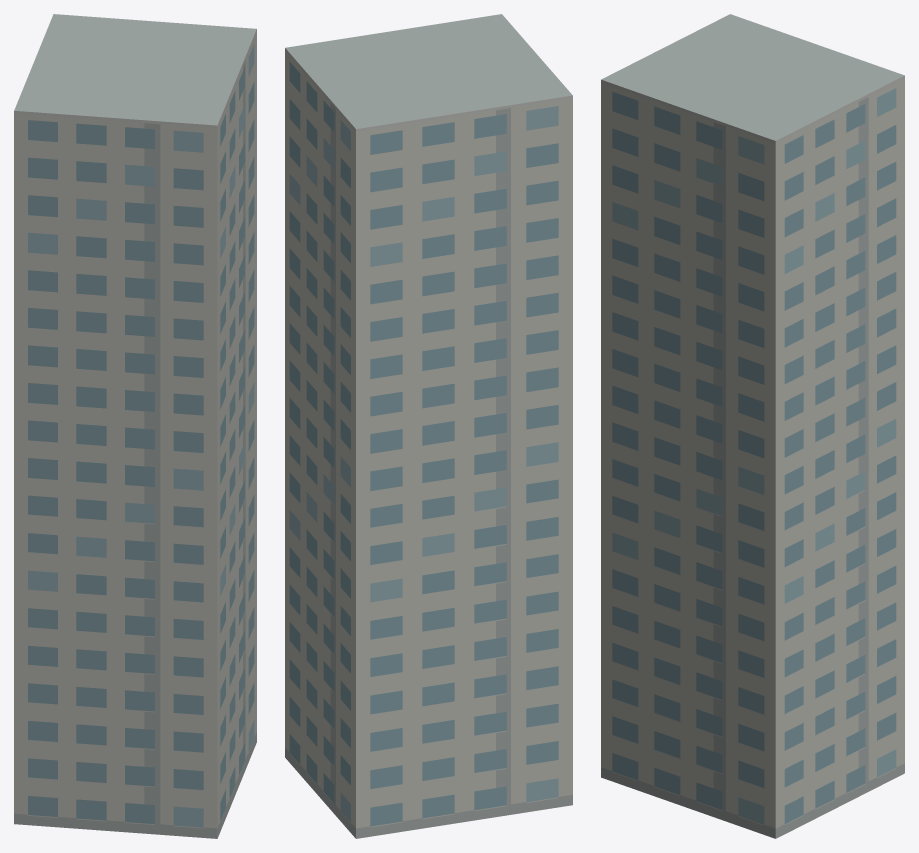
File: residential-009ddc0f-bdf9-4cb2-8feb-0f2e715137c4.glb
3 views of the same model, side by side, from view 1: azimuth 30°, elevation 25°; view 2: azimuth 150°, elevation 25°; view 3: azimuth 270°, elevation 25° (orthographic). The views are drawn at different scales.
Visible parts, largest first — view 1: residential-009ddc0f-bdf9-4cb2-8feb-0f2e715137c4.tmp; view 2: residential-009ddc0f-bdf9-4cb2-8feb-0f2e715137c4.tmp; view 3: residential-009ddc0f-bdf9-4cb2-8feb-0f2e715137c4.tmp.
Boxes of the visible parts, box(x1,y1,x2,y2) form: residential-009ddc0f-bdf9-4cb2-8feb-0f2e715137c4.tmp: box(14, 14, 256, 838); residential-009ddc0f-bdf9-4cb2-8feb-0f2e715137c4.tmp: box(285, 14, 572, 838); residential-009ddc0f-bdf9-4cb2-8feb-0f2e715137c4.tmp: box(601, 14, 904, 838).
Size of the model in its own units: 23.03 by 59 by 23.29.
